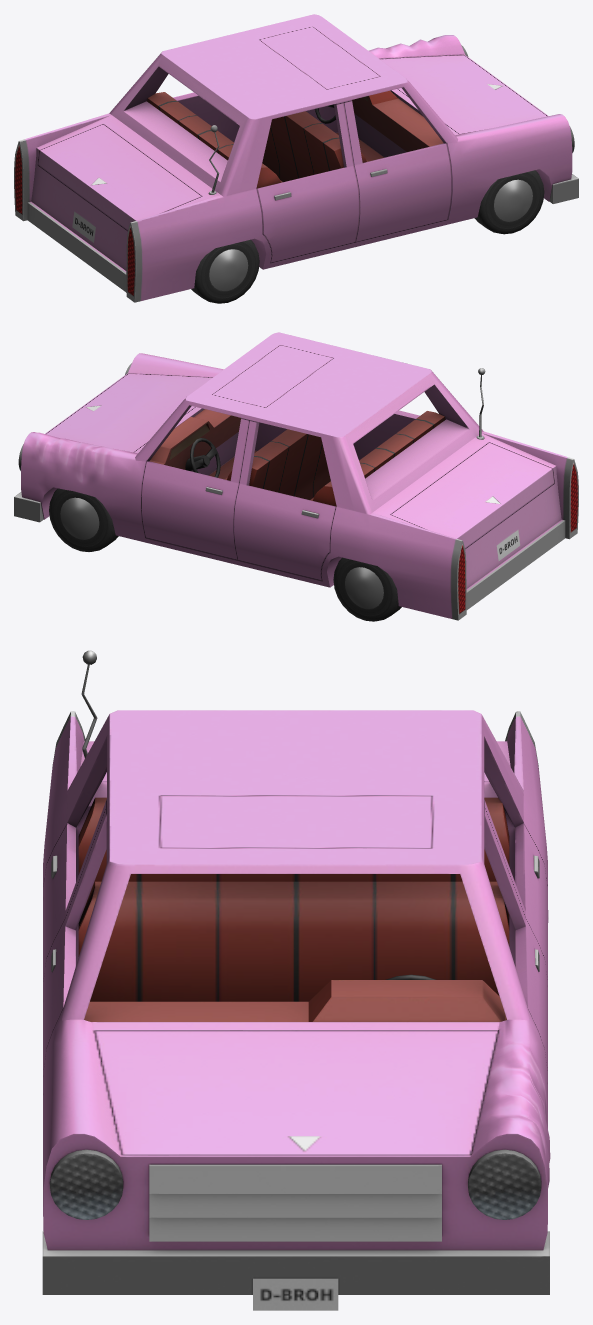
File: WAGON_PINK.glb
3 views of the same model, one above another, from view 1: azimuth 30°, elevation 25°; view 2: azimuth 150°, elevation 25°; view 3: azimuth 270°, elevation 25° (orthographic). The views are drawn at different scales.
Visible parts, largest first — view 1: july-car-body, july-car-wheels; view 2: july-car-body, july-car-wheels; view 3: july-car-body.
Part boxes in pixels (<box>): july-car-body: <box>14,14,578,302</box>; july-car-wheels: <box>191,170,544,303</box>; july-car-body: <box>14,332,578,620</box>; july-car-wheels: <box>49,488,401,621</box>; july-car-body: <box>42,650,550,1310</box>.
Size of the model in its own units: 0.3361 by 0.1282 by 0.1677.
Materials: 2 (2 with a texture image).
